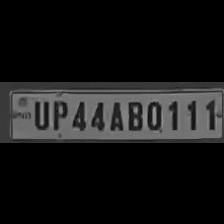1: (200, 96, 220, 130), (164, 97, 182, 130), (182, 96, 198, 130)
4: (68, 97, 88, 130), (88, 97, 106, 130)
A: (106, 97, 124, 130)
B: (125, 97, 143, 130)
P: (48, 96, 68, 130)
Q: (143, 97, 163, 130)
U: (29, 96, 48, 130)
